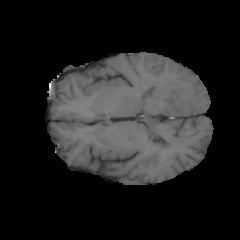glioma: (142, 79, 180, 101)
